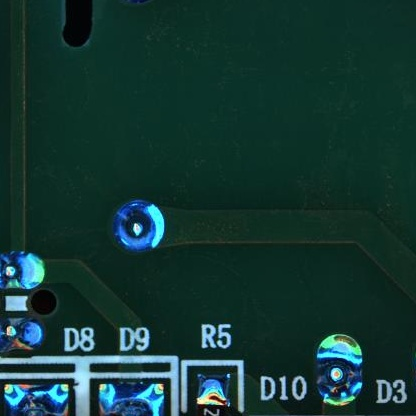spot: (317, 332, 364, 403), (111, 198, 167, 255), (1, 252, 46, 292), (1, 318, 46, 353)
